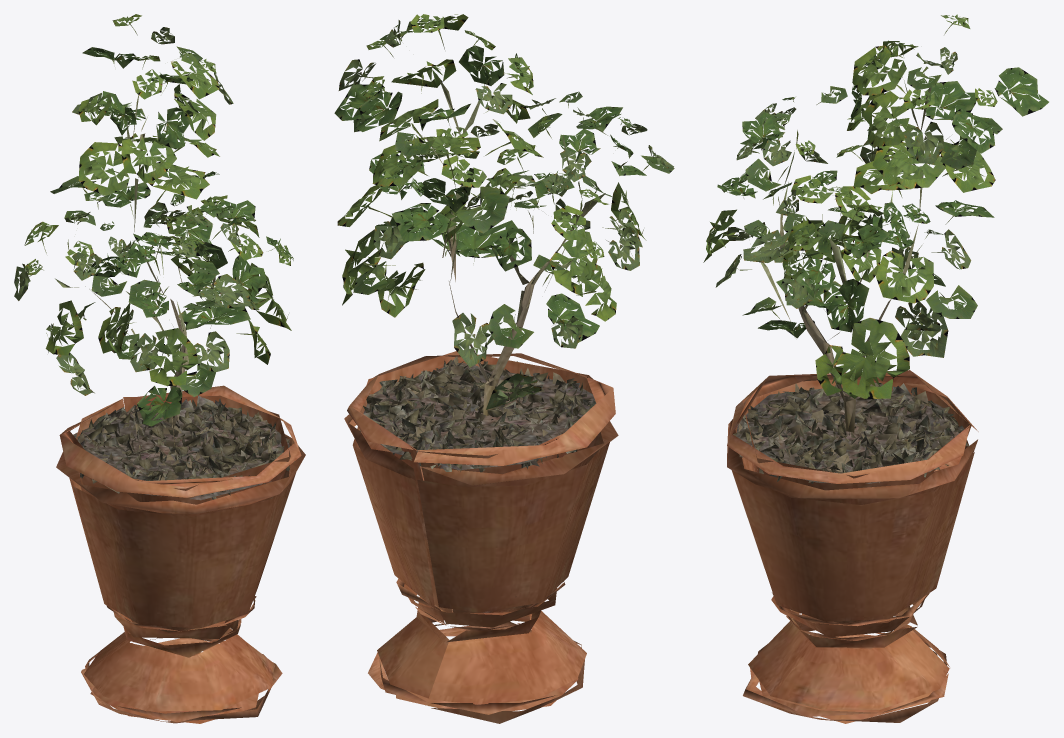
File: plant_tall.glb
3 views of the same model, side by side, from view 1: azimuth 30°, elevation 25°; view 2: azimuth 150°, elevation 25°; view 3: azimuth 270°, elevation 25° (orthographic). The views are drawn at different scales.
Parts seen in each view (by area): view 1: plant_tall; view 2: plant_tall; view 3: plant_tall.
Boxes of the visible parts, left/top/right/bottom form: plant_tall: left=14, top=14, right=305, bottom=723; plant_tall: left=334, top=14, right=674, bottom=723; plant_tall: left=703, top=14, right=1048, bottom=723.
Size of the model in its own units: 0.6521 by 1.48 by 0.7004.
Materials: 2 (2 with a texture image).
